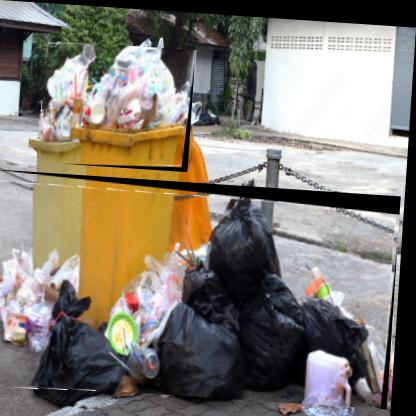Garbage: (1, 170, 405, 406), (44, 41, 199, 171)
